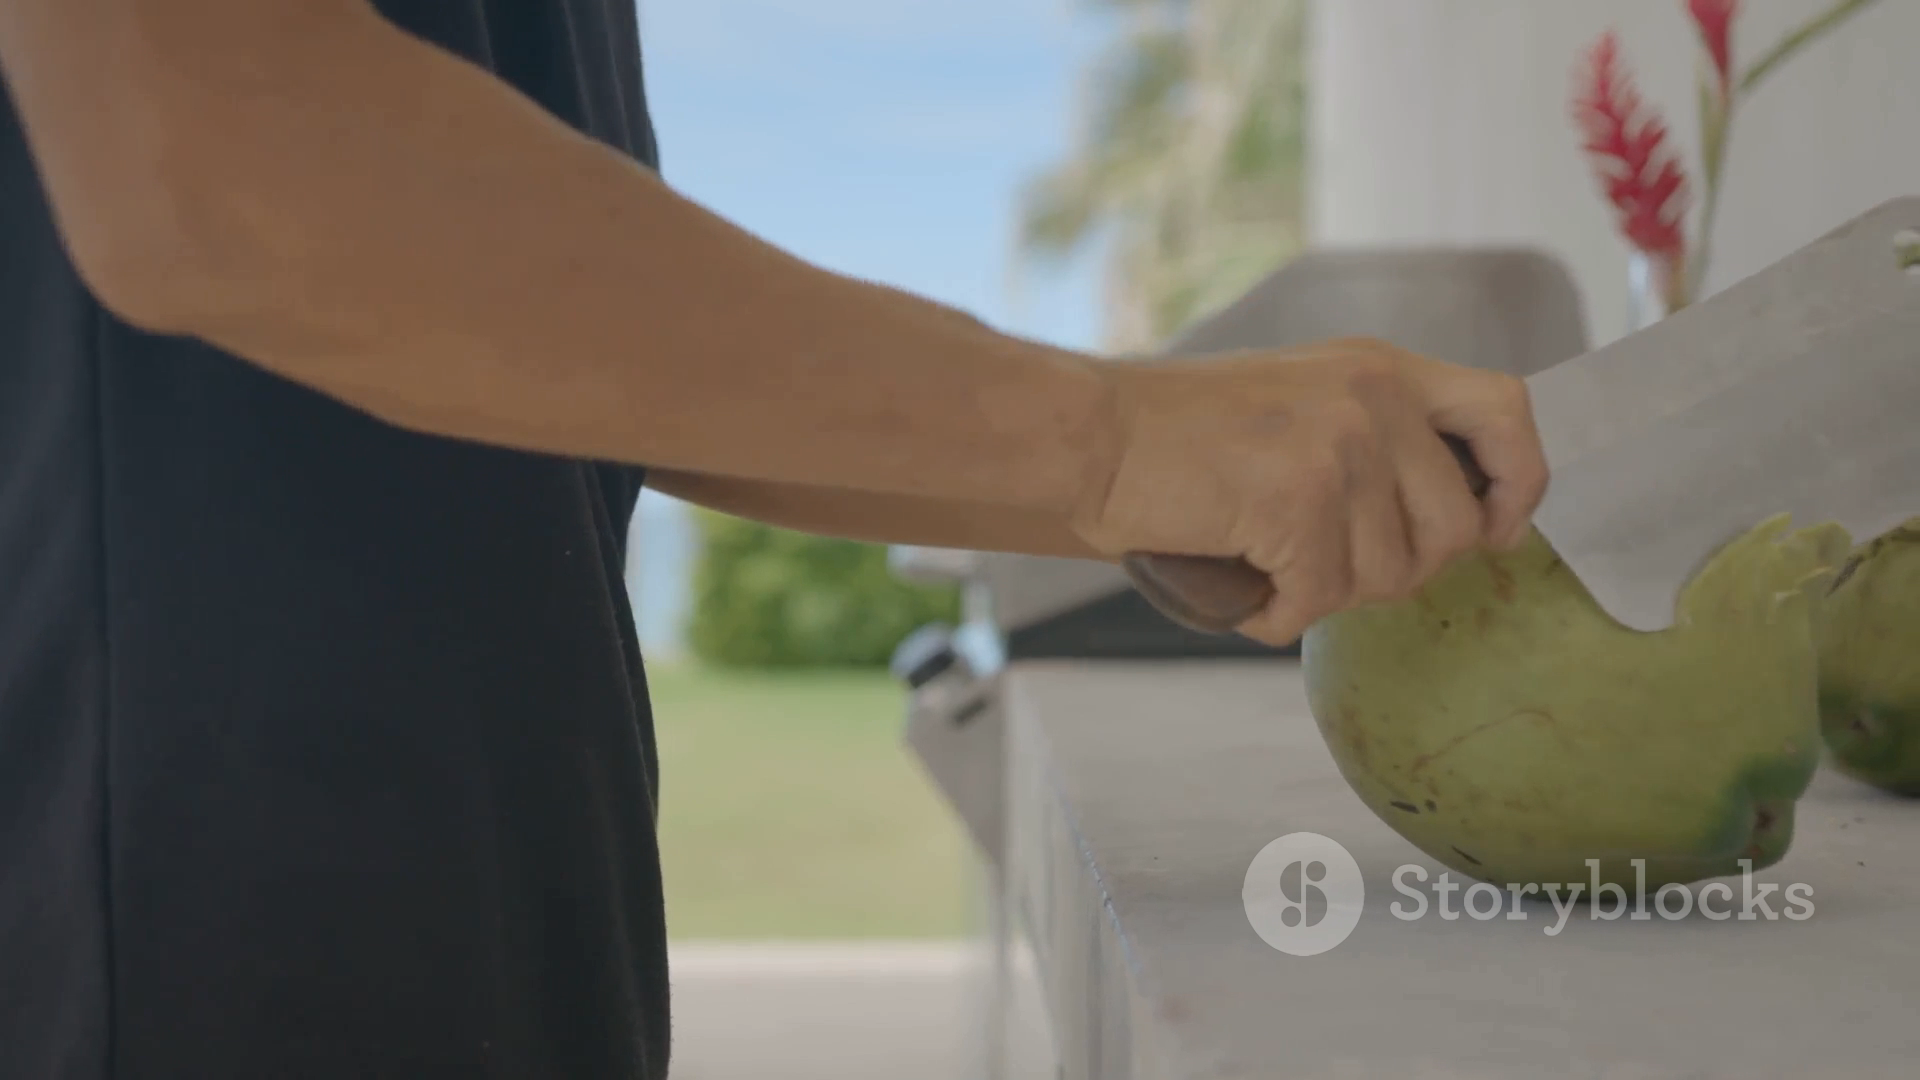cortante: (1522, 195, 1920, 634)
